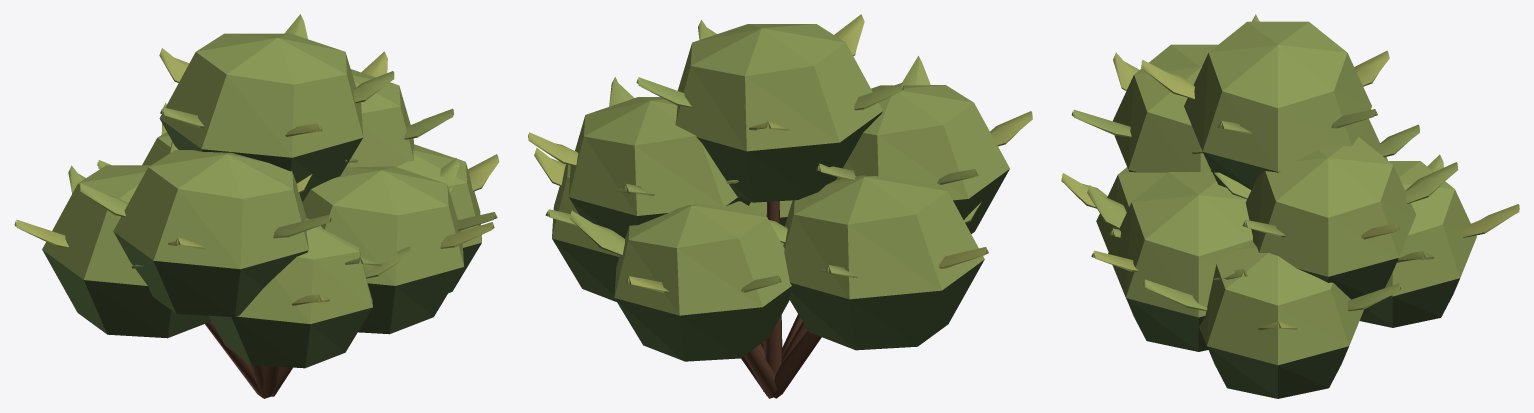
Rendered from foliage_bush_round_a.glb.
The picture shows the model from 3 angles, left to right: view 1: azimuth 30°, elevation 25°; view 2: azimuth 150°, elevation 25°; view 3: azimuth 270°, elevation 25°; orthographic projection. The views are drawn at different scales.
Parts seen in each view (by area): view 1: foliage_bush_round_a_mesh; view 2: foliage_bush_round_a_mesh; view 3: foliage_bush_round_a_mesh.
Part boxes in pixels (x1,y1,x2,y2): foliage_bush_round_a_mesh: (14, 14, 499, 398); foliage_bush_round_a_mesh: (528, 14, 1032, 398); foliage_bush_round_a_mesh: (1061, 14, 1519, 398).
Bounding box in the file's own units: 0.9528 × 0.7033 × 0.8229.
